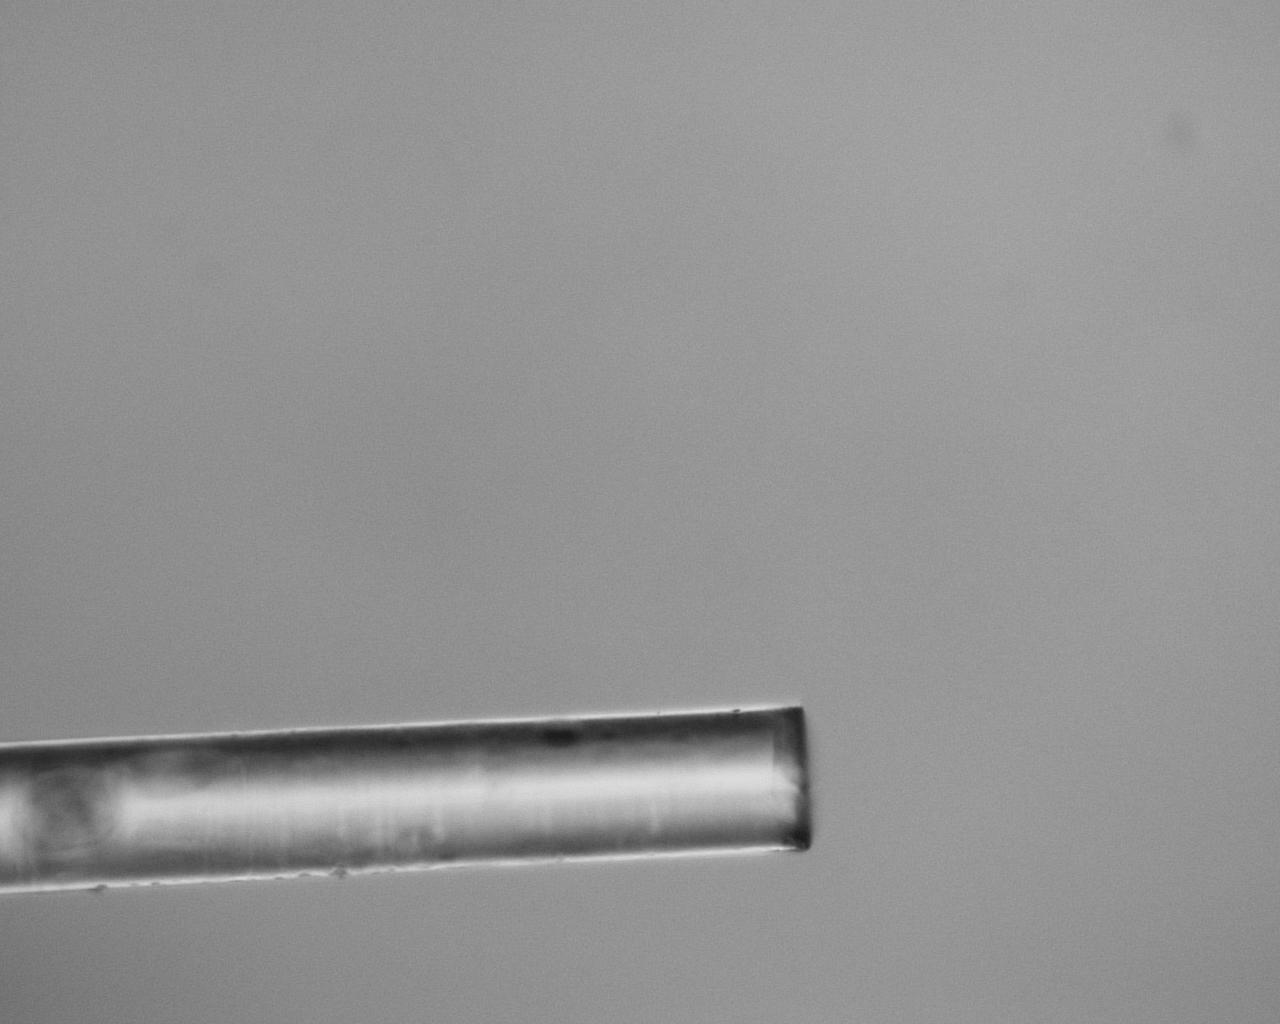fiber: (0, 704, 813, 891)
